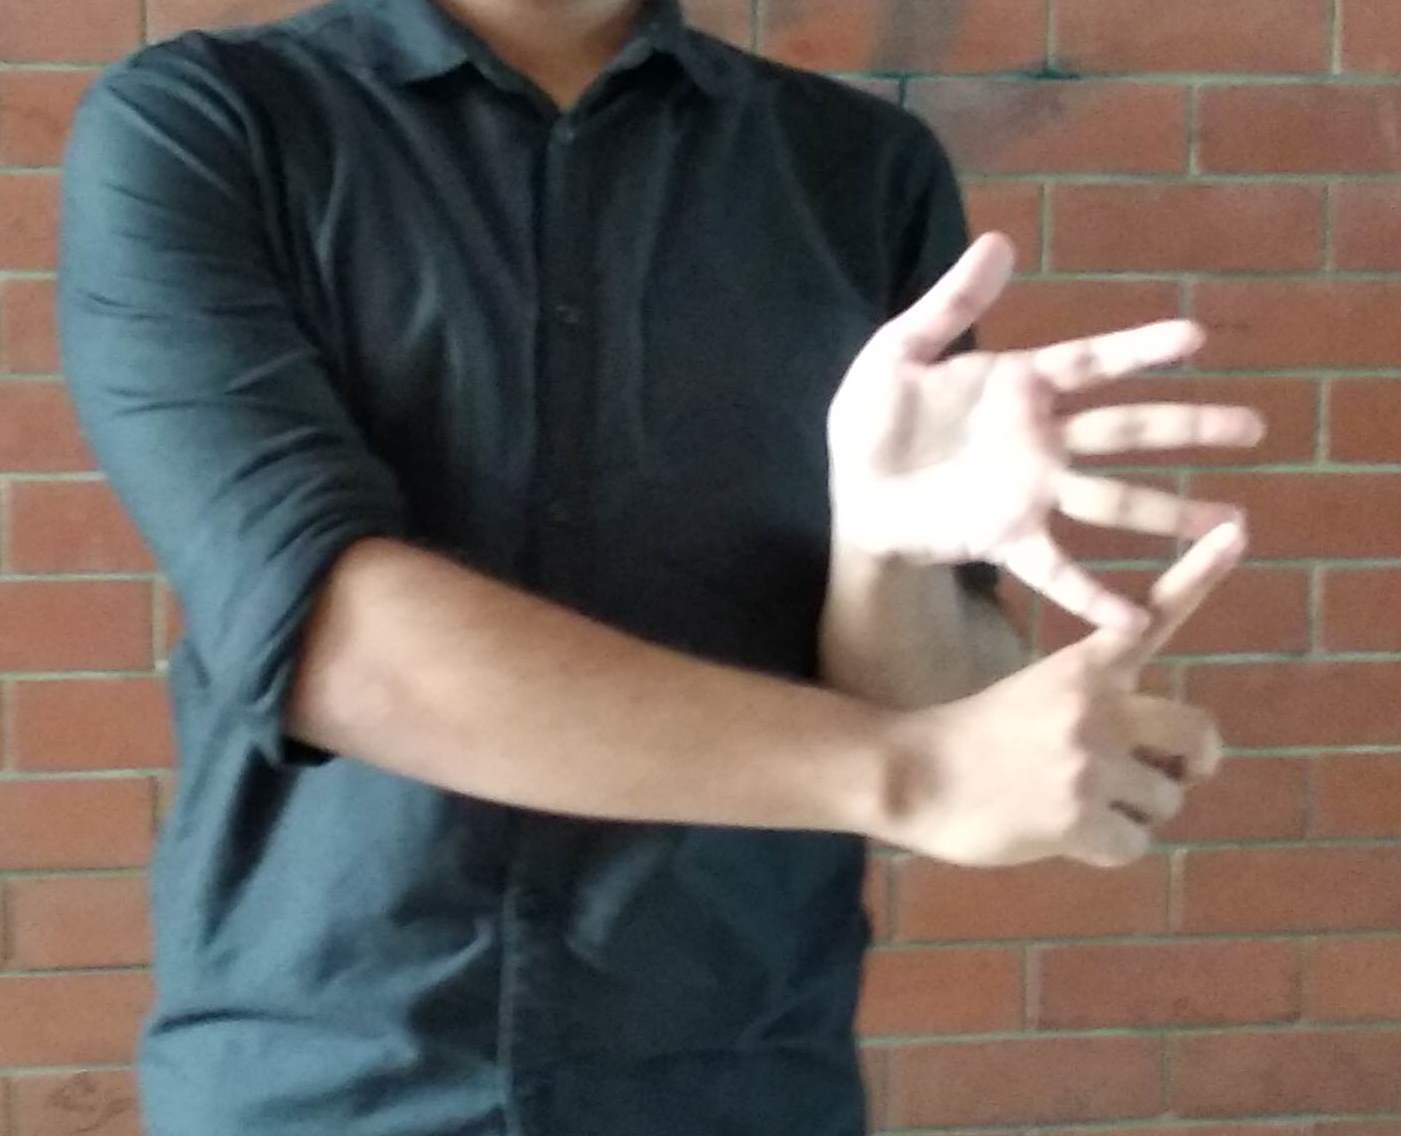e: (853, 238, 1241, 880)
